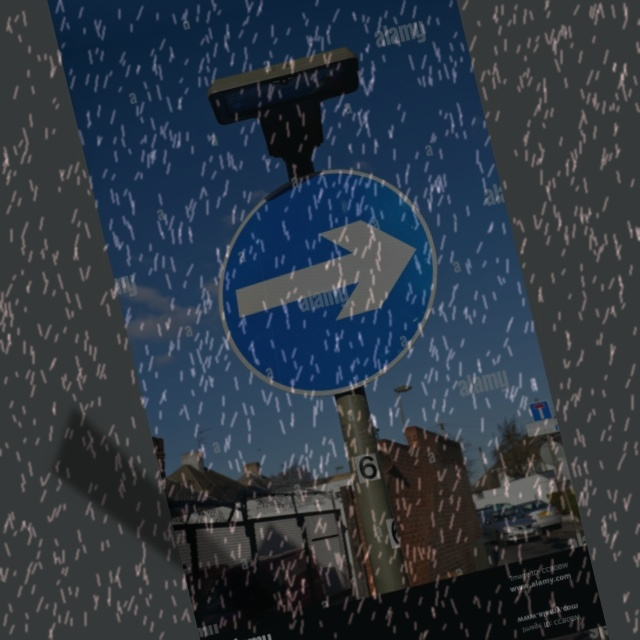Compulsory_Turn_Right: (189, 149, 461, 417)
